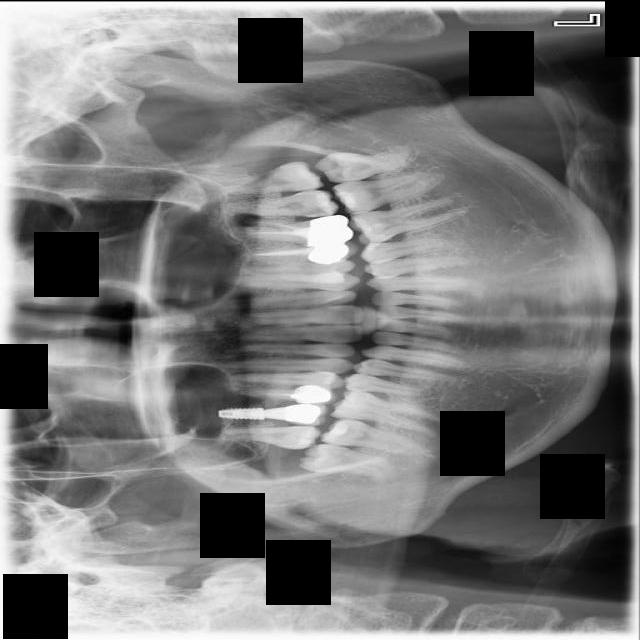52: (299, 212, 355, 248), (306, 240, 360, 265), (283, 401, 329, 425), (294, 383, 339, 406)
73: (227, 212, 307, 243), (245, 245, 313, 259), (235, 388, 296, 400), (558, 21, 571, 26)
BioHorizons Implant: (219, 189, 338, 219)
BioLife Implant: (212, 159, 324, 196)
Biomet 3i Implant: (314, 144, 413, 187)
Blue Sky Bio Implant: (331, 167, 447, 218)
Caries: (219, 423, 321, 451)
Implant: (320, 414, 433, 458)
Keystone Dental Implant: (298, 438, 402, 486)
